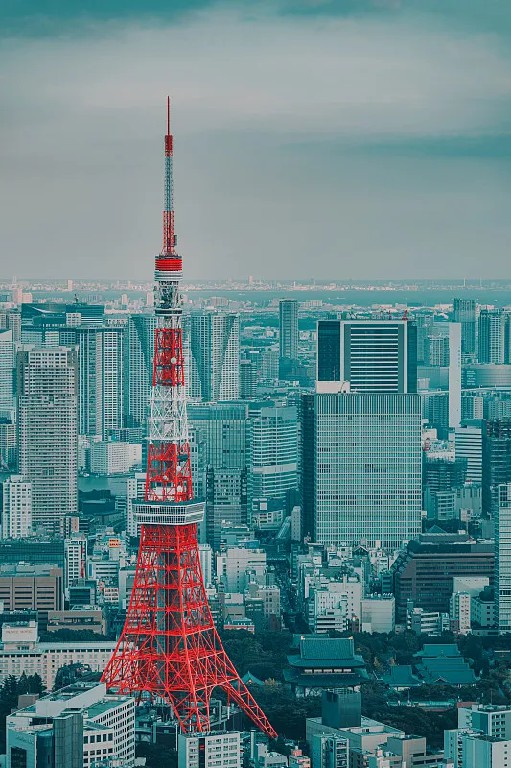Tokyo: (101, 91, 276, 743)
